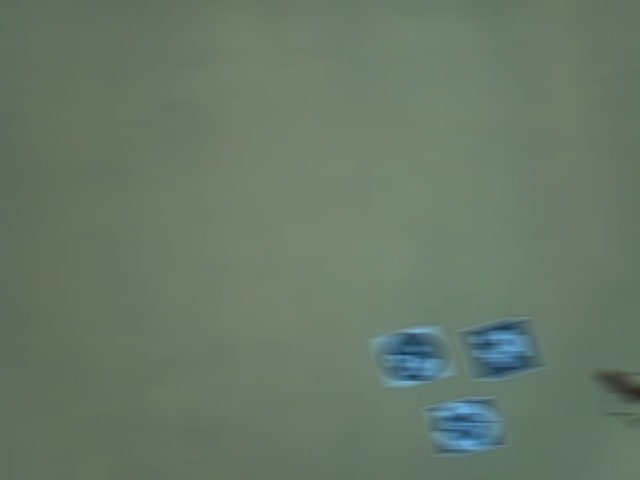landing-zone: (423, 392, 510, 458)
